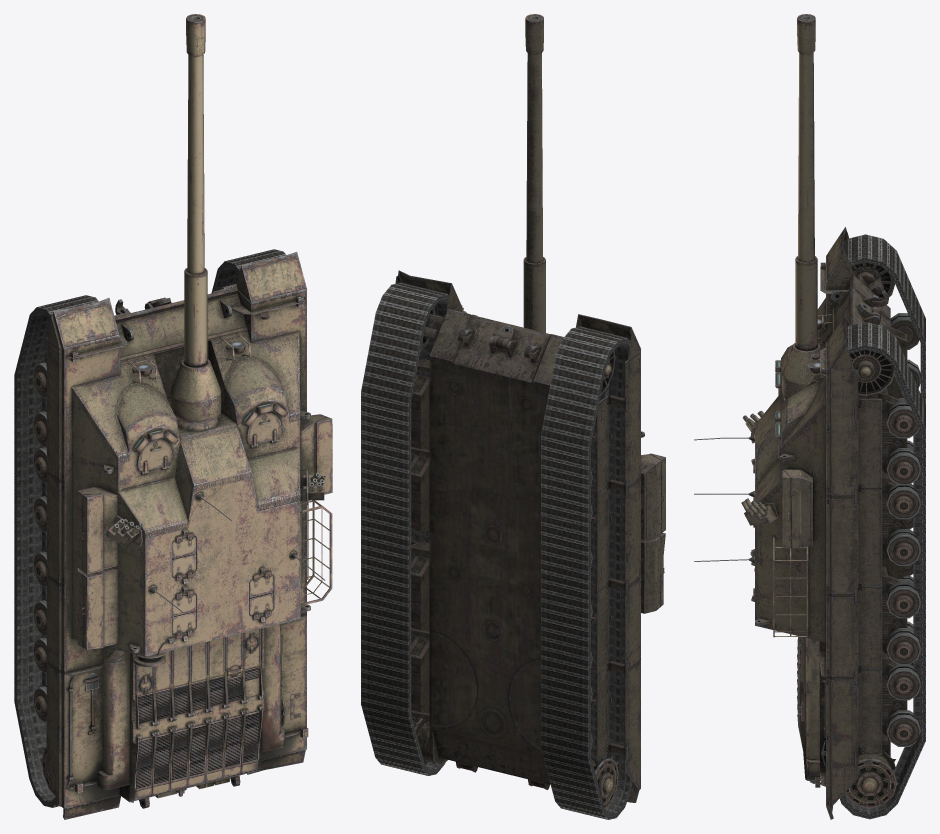
3 views of the same model, side by side, from view 1: azimuth 30°, elevation 25°; view 2: azimuth 150°, elevation 25°; view 3: azimuth 270°, elevation 25° (orthographic). The views are drawn at different scales.
Visible parts, largest first — view 1: hull, hull_nc, chassis_track_L, gun_01, gun_01_mask, chassis_track_R; view 2: hull, chassis_track_L, chassis_track_R, hull_nc, gun_01, chassis_wheel_L_14; view 3: hull, hull_nc, chassis_track_R, gun_01, chassis_track_L, chassis_wheel_R_14, chassis_wheel_R_01, gun_01_mask, chassis_wheel_R_08, chassis_wheel_R_04, chassis_wheel_R_10, chassis_wheel_R_07 (+6 smaller).
Part boxes in pixels (left/top/right/bottom): hull: left=46, top=286, right=300, bottom=808; hull_nc: left=47, top=252, right=332, bottom=819; chassis_track_L: left=14, top=295, right=98, bottom=807; gun_01: left=184, top=14, right=207, bottom=367; gun_01_mask: left=170, top=359, right=221, bottom=422; chassis_track_R: left=211, top=249, right=285, bottom=292; hull: left=429, top=309, right=640, bottom=789; chassis_track_L: left=541, top=326, right=632, bottom=819; chassis_track_R: left=361, top=282, right=448, bottom=775; hull_nc: left=395, top=270, right=665, bottom=802; gun_01: left=523, top=14, right=545, bottom=332; chassis_wheel_L_14: left=591, top=755, right=618, bottom=809; hull: left=755, top=275, right=890, bottom=806; hull_nc: left=694, top=227, right=907, bottom=819; chassis_track_R: left=839, top=322, right=925, bottom=819; gun_01: left=795, top=14, right=817, bottom=350; chassis_track_L: left=843, top=234, right=925, bottom=665; chassis_wheel_R_14: left=845, top=749, right=898, bottom=808; chassis_wheel_R_01: left=850, top=350, right=895, bottom=396; gun_01_mask: left=782, top=343, right=821, bottom=398; chassis_wheel_R_08: left=886, top=581, right=920, bottom=618; chassis_wheel_R_04: left=886, top=448, right=920, bottom=484; chassis_wheel_R_10: left=886, top=628, right=920, bottom=664; chassis_wheel_R_07: left=886, top=529, right=920, bottom=565.
Size of the model in its own units: 4.04 by 12.09 by 3.41.
2 materials, 2 textured.
